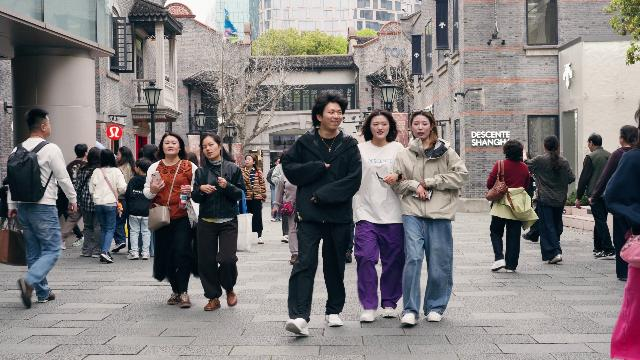person: (281, 89, 363, 336), (386, 109, 469, 328), (6, 107, 77, 308), (352, 108, 406, 323), (141, 131, 199, 308), (191, 133, 247, 312), (486, 139, 539, 274), (588, 124, 638, 259), (525, 134, 576, 264), (575, 134, 614, 257), (88, 149, 127, 264), (74, 147, 104, 258), (124, 157, 152, 260), (242, 153, 267, 244), (186, 151, 200, 167)
